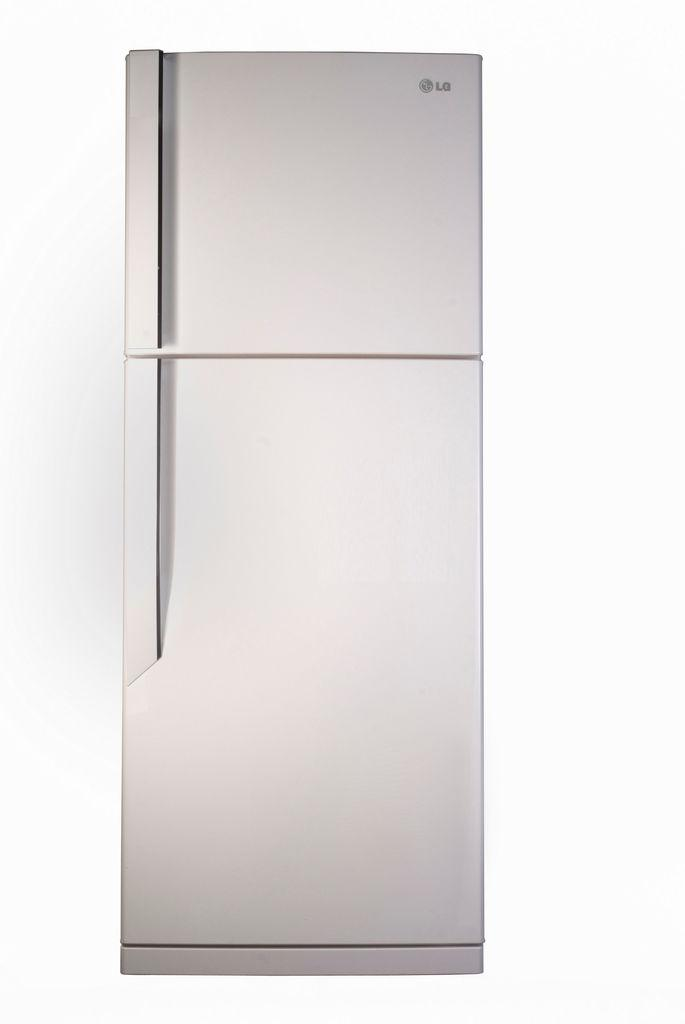handle: (122, 358, 158, 672), (126, 53, 163, 337)
